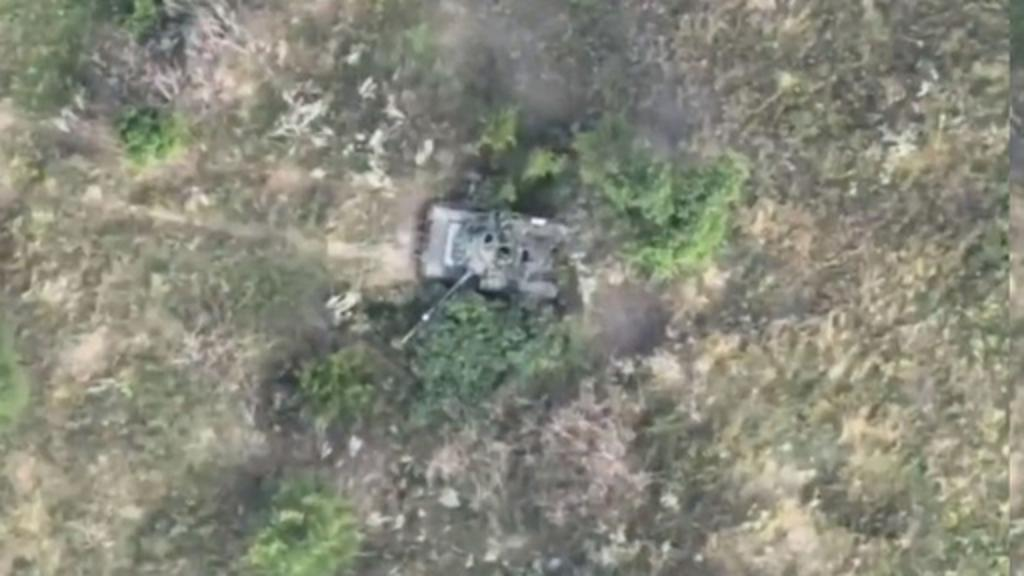TANK: (380, 186, 592, 362)
